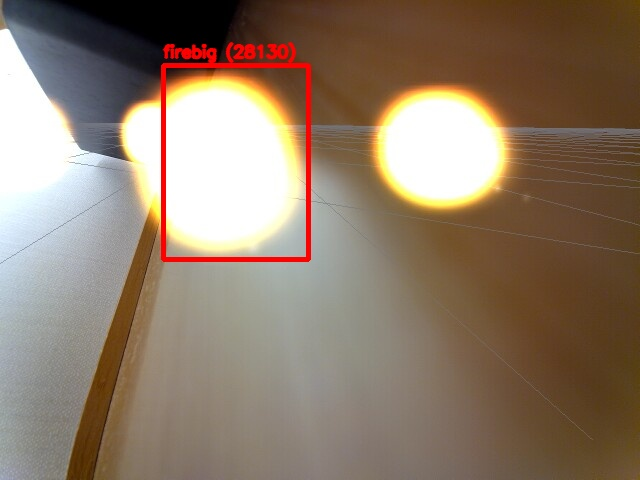firebig: (163, 65, 308, 259)
